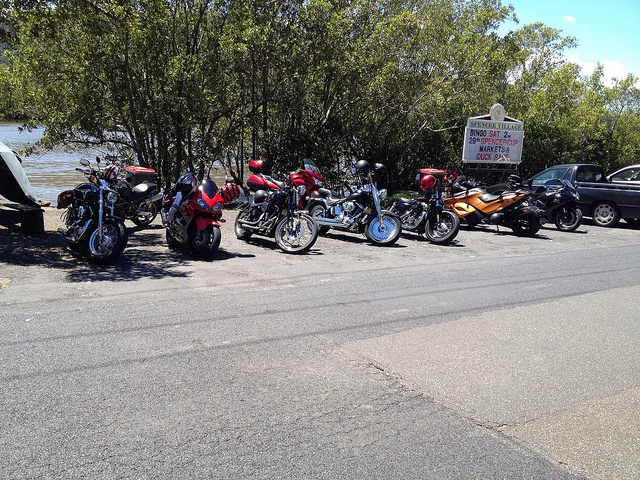non-vehicle: (234, 158, 324, 254), (306, 158, 401, 245), (56, 159, 135, 263), (440, 174, 544, 236), (379, 167, 460, 245), (159, 175, 228, 257), (95, 156, 162, 225), (506, 174, 582, 231)
